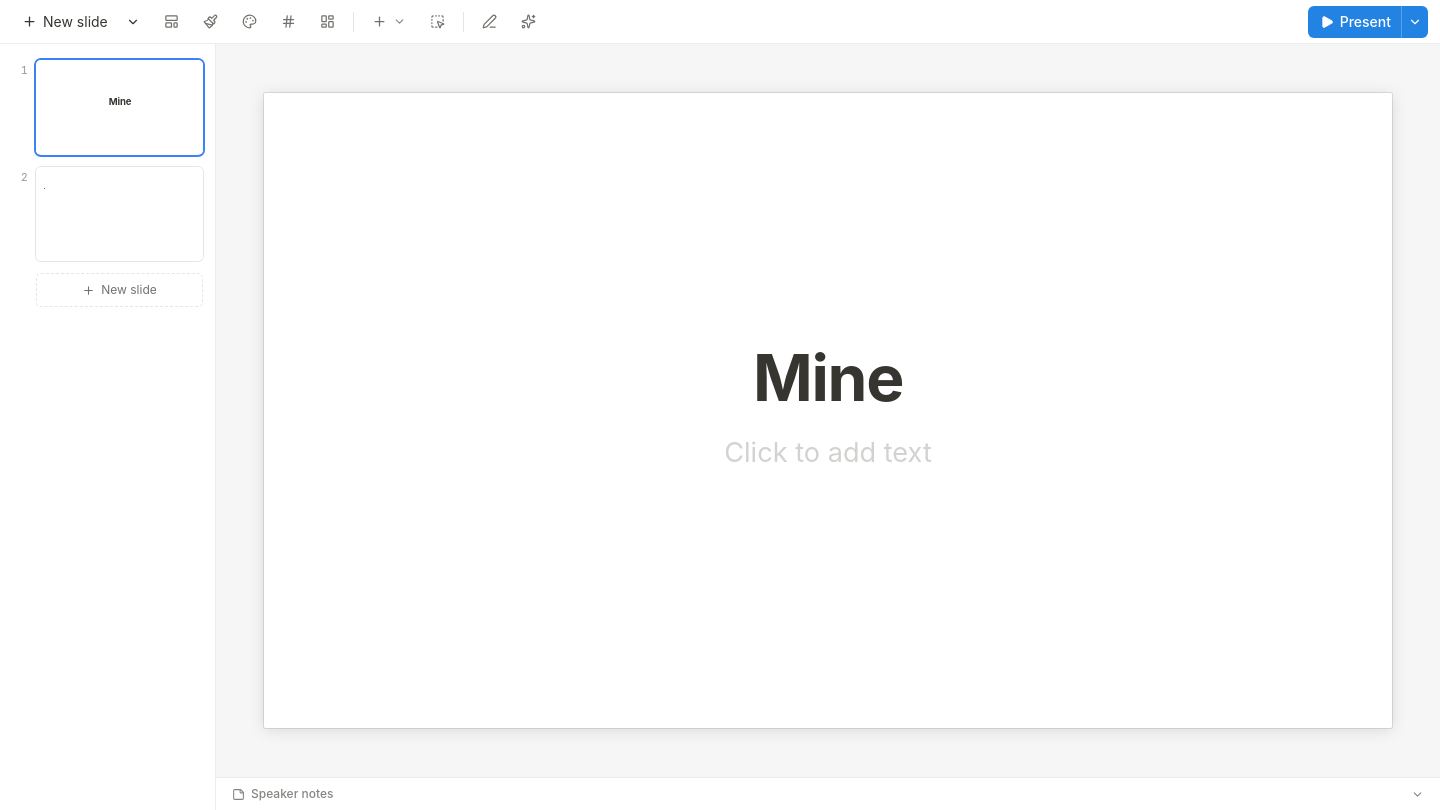
Test case: PresentationPage: gallery, theme, footer, hide, notes › Theme button switches the look of an existing deck without touching its slides
Later steps or results of the test are not shown.
Check: the list named "Slides" is shown, box [0,44,216,809]
Click the button named "Theme" at (249, 22), box [232,6,267,38]
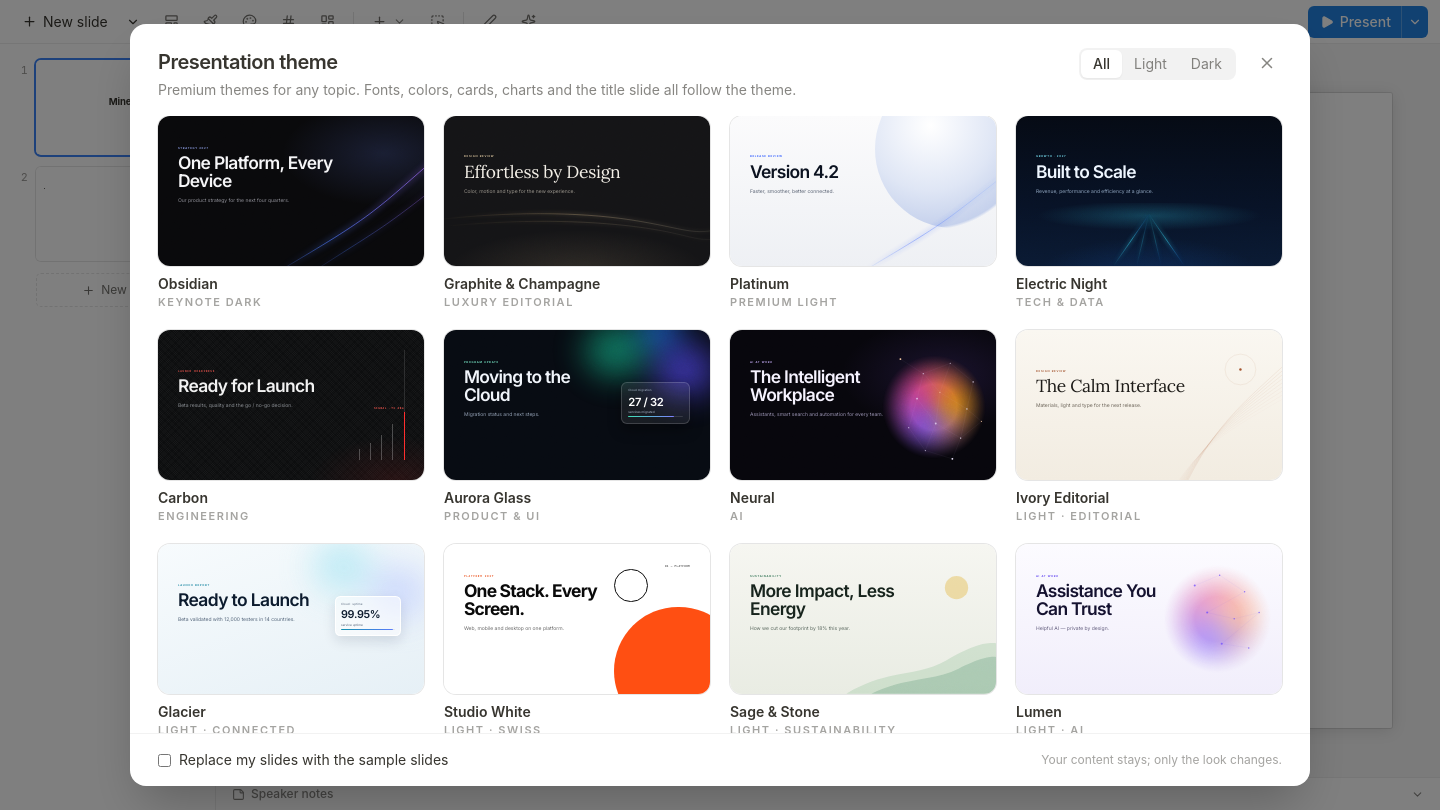
Check: the checkbox labelled "Replace my slides with the sample slides" is not checked, box [158,754,171,766]
